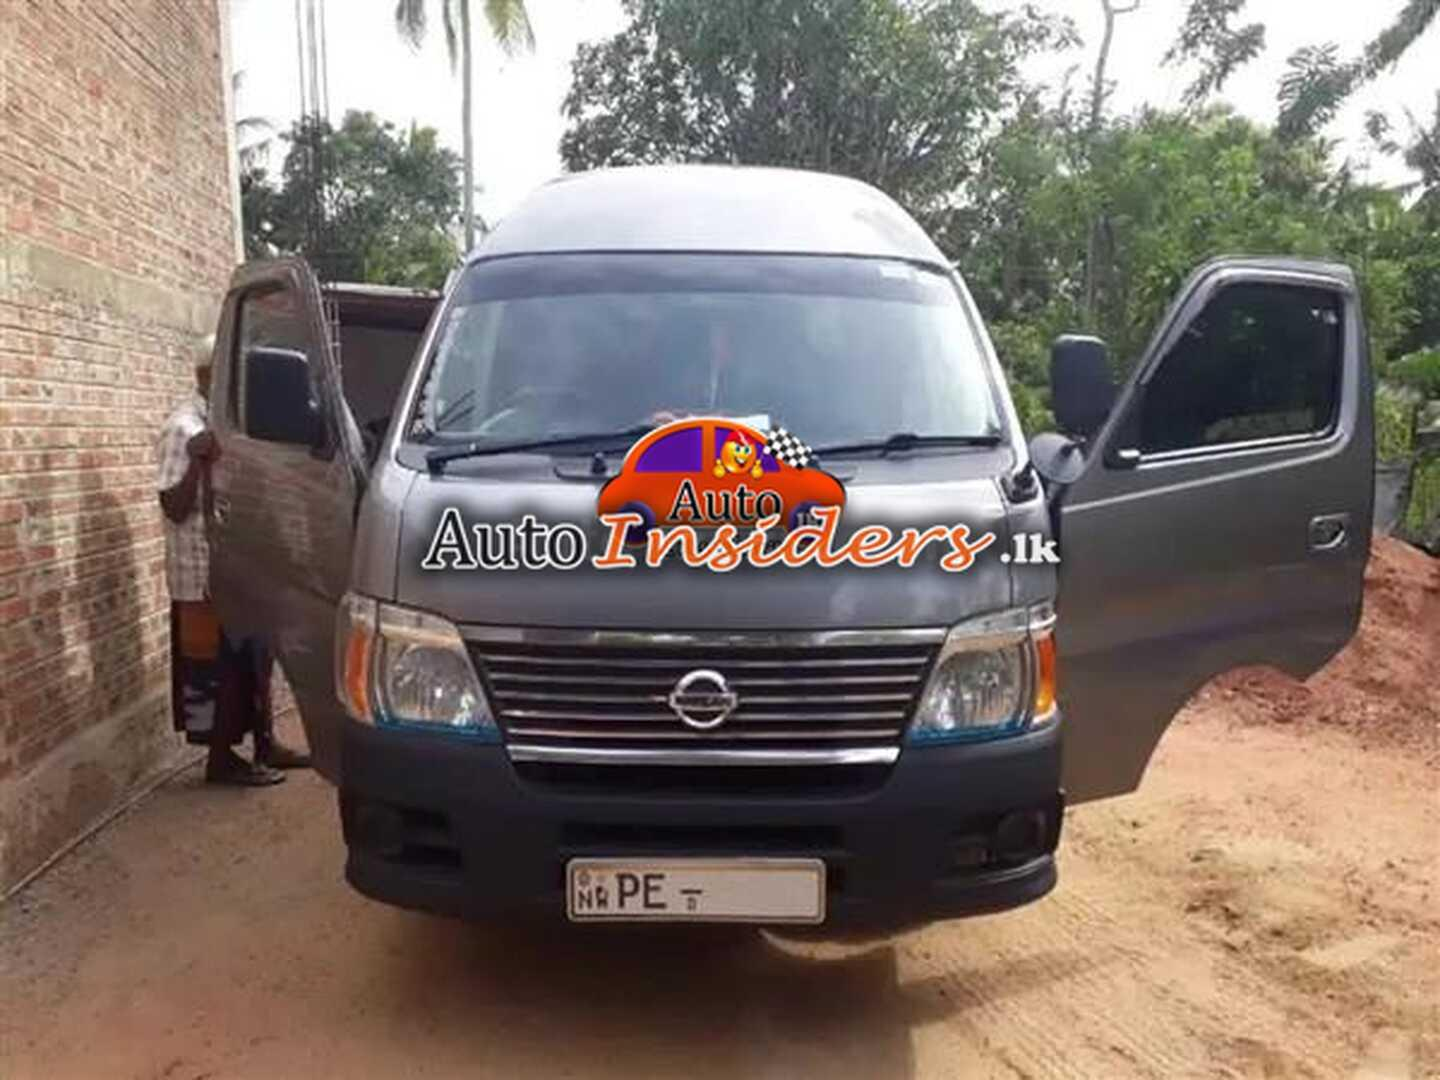van: (308, 157, 1110, 967)
